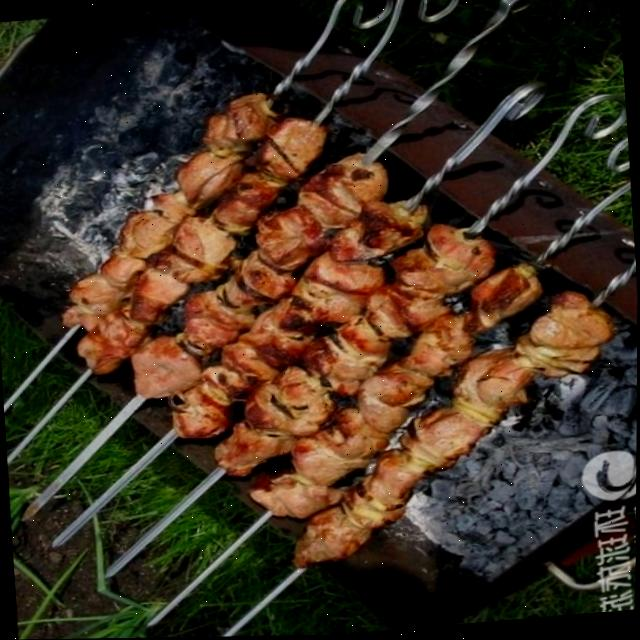烧串烤肉: (0, 0, 629, 640)
